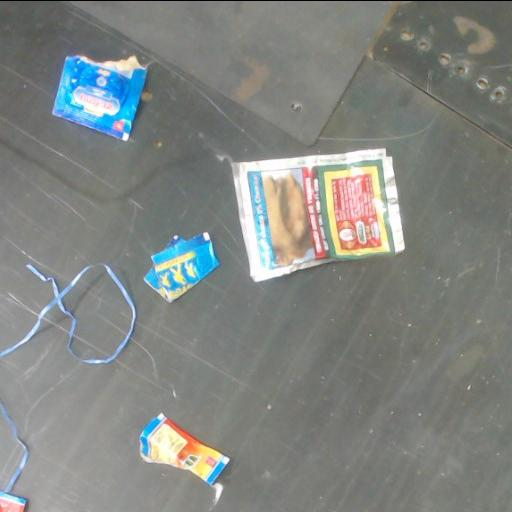conveyor belt: (0, 1, 511, 512)
packet: (232, 149, 404, 280), (140, 413, 229, 501), (53, 56, 146, 140), (144, 233, 218, 301)
thread: (0, 265, 134, 363), (0, 401, 29, 490)
